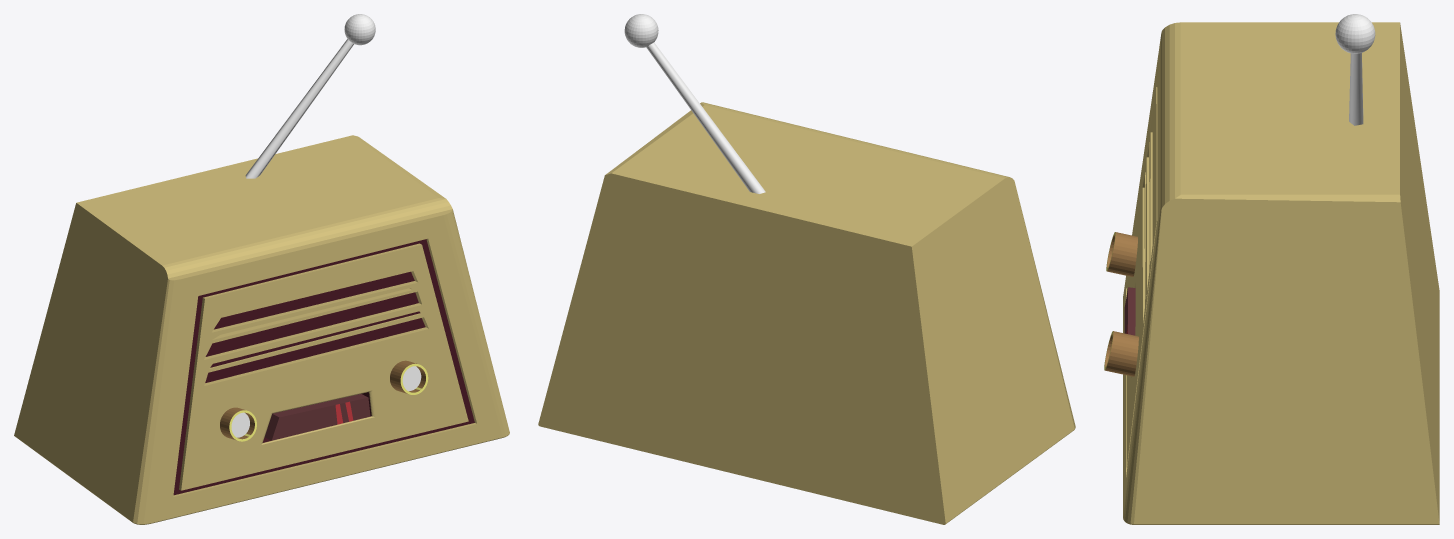
Rendered from radio.glb.
The picture shows the model from 3 angles, left to right: view 1: azimuth 30°, elevation 25°; view 2: azimuth 150°, elevation 25°; view 3: azimuth 270°, elevation 25°; orthographic projection. The views are drawn at different scales.
Parts seen in each view (by area): view 1: Cylinder.010; view 2: Cylinder.010; view 3: Cylinder.010.
Boxes of the visible parts, x1,y1,x2,y2 form: Cylinder.010: (14,14,509,524); Cylinder.010: (538,14,1075,524); Cylinder.010: (1104,14,1439,524).
Bounding box in the file's own units: 2.48 × 2.33 × 1.5.
